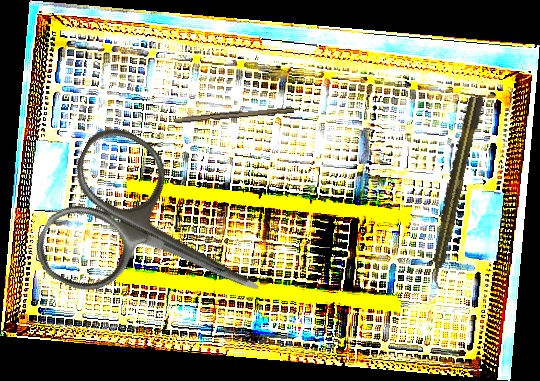Handpiece: (424, 93, 486, 290)
Iris Scissors: (25, 117, 295, 363)
Scalpel Handle: (173, 103, 295, 126)
